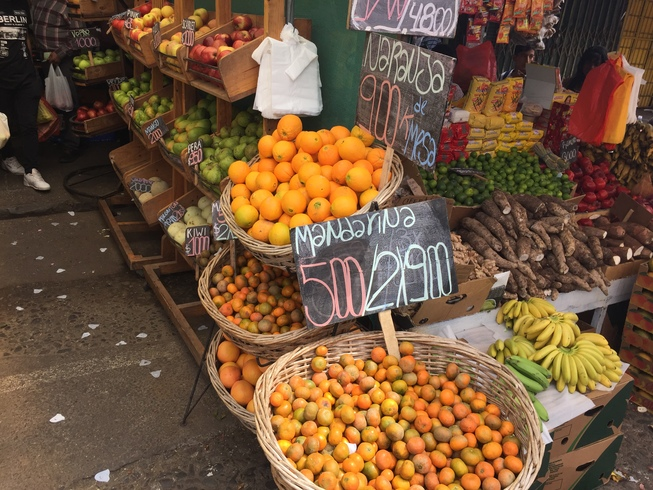precio: (296, 190, 462, 334), (345, 29, 464, 177), (347, 1, 461, 40), (209, 194, 245, 244), (182, 222, 218, 263), (157, 194, 191, 235), (139, 113, 172, 154), (181, 132, 211, 176), (557, 134, 586, 172), (69, 24, 101, 53), (122, 90, 143, 127), (181, 13, 199, 51), (147, 19, 166, 55), (122, 5, 140, 40), (103, 76, 138, 94), (130, 171, 157, 194)
